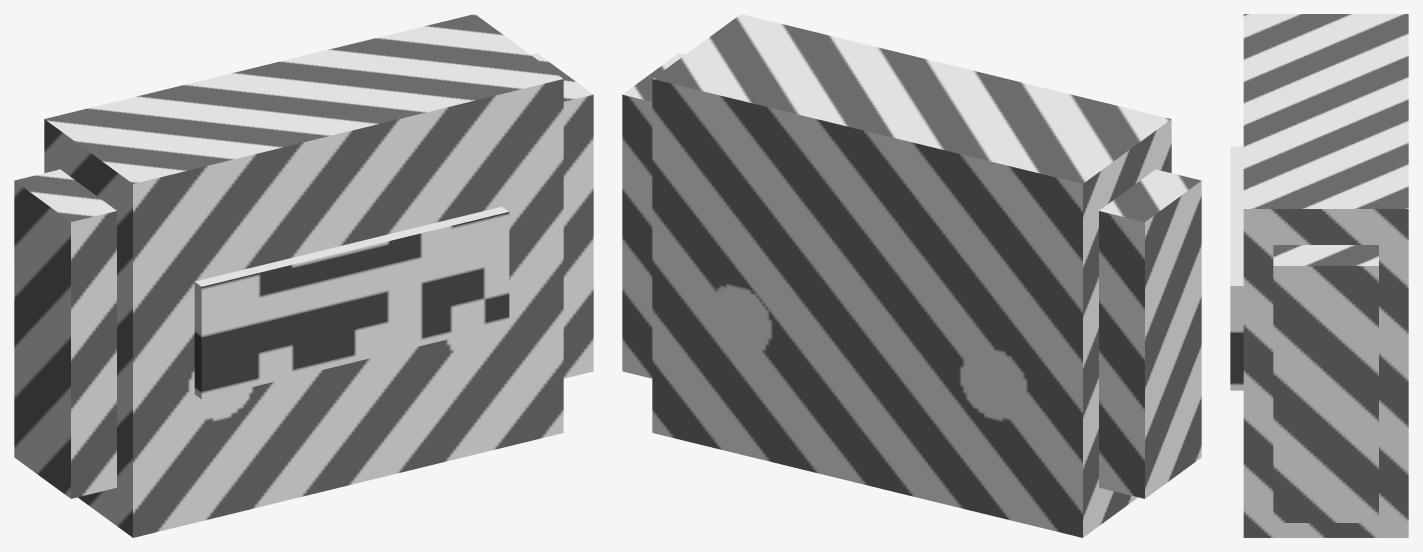
Rendered from p_merendina.obj.
3 renders of one model, left to right at view 1: azimuth 30°, elevation 25°; view 2: azimuth 150°, elevation 25°; view 3: azimuth 270°, elevation 25°, orthographic. The views are drawn at different scales.
Parts seen in each view (by area): view 1: stampa_b_000, stampa_a_001; view 2: stampa_b_000; view 3: stampa_b_000, stampa_a_001.
Part boxes in pixels (x1,y1,x2,y2): stampa_b_000: (14, 14, 593, 537); stampa_a_001: (194, 206, 509, 399); stampa_b_000: (622, 14, 1201, 537); stampa_b_000: (1243, 14, 1408, 537); stampa_a_001: (1230, 146, 1243, 390).
Bounding box in the file's own units: 0.17 × 0.11 × 0.054.
Materials: 2 (2 with a texture image).
